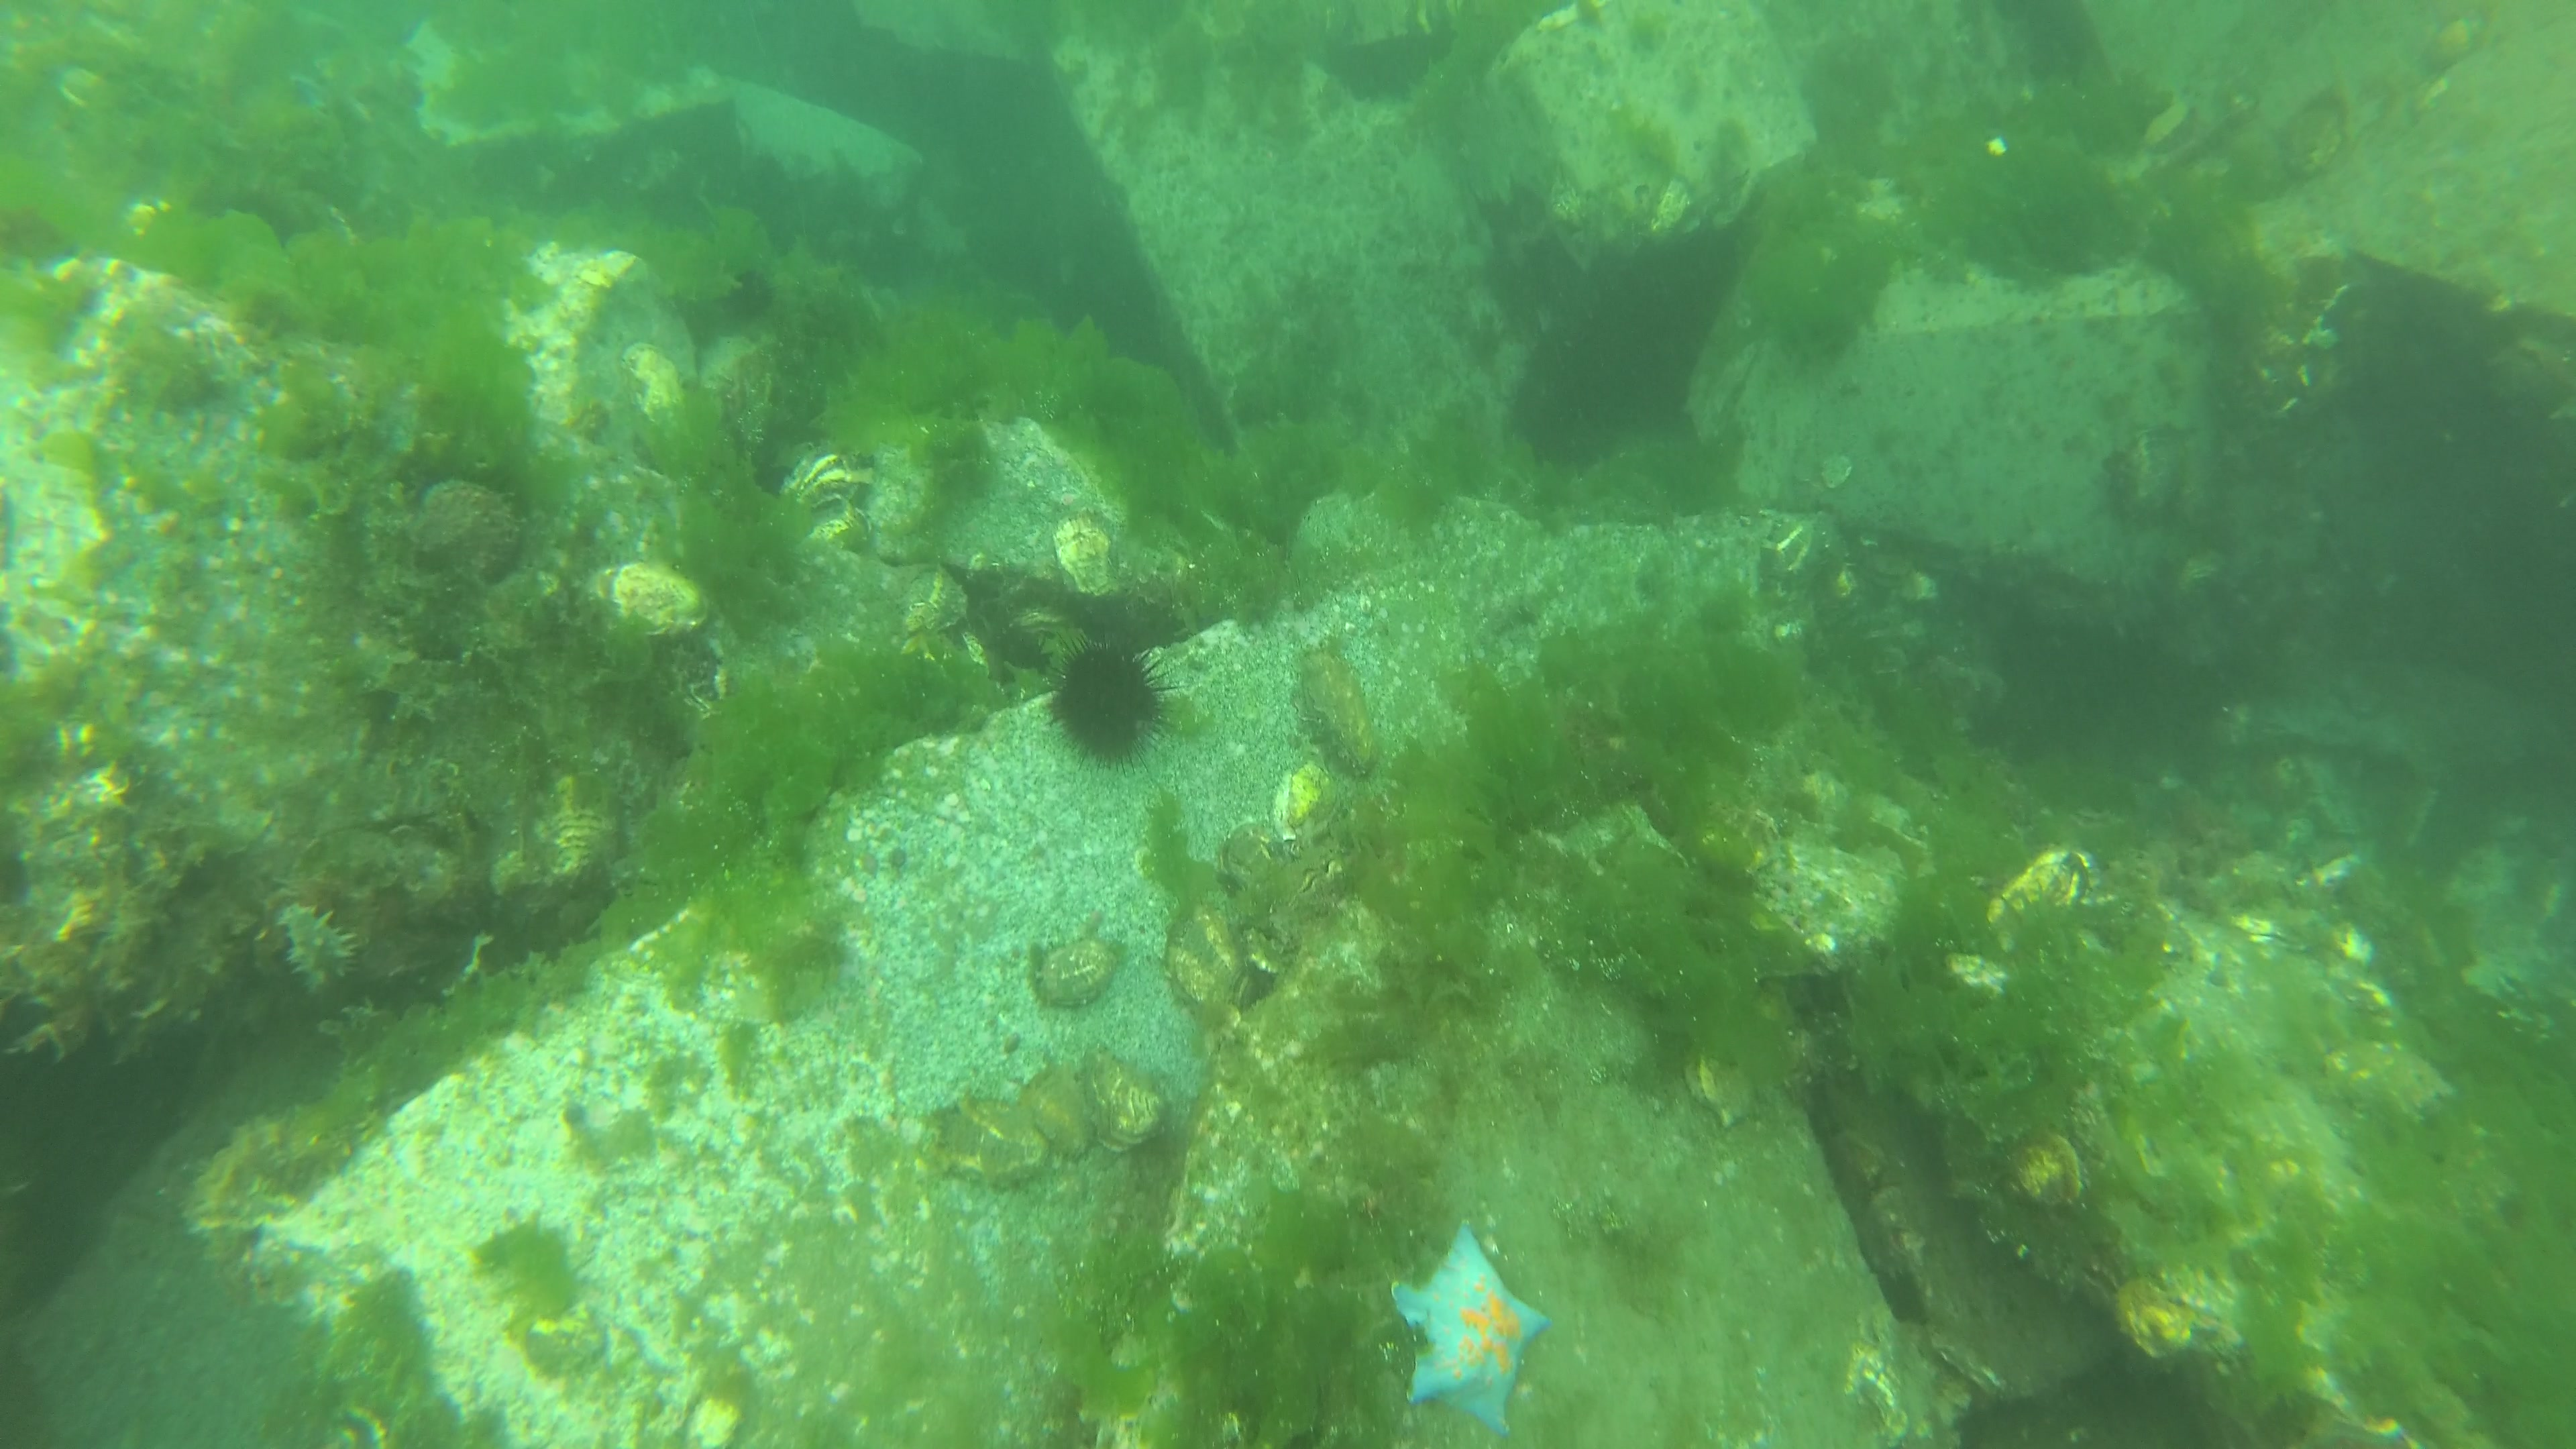echinus: (1044, 628, 1187, 777), (724, 269, 780, 318)
holothurian: (276, 901, 361, 996)
starfish: (1391, 1217, 1555, 1438)
